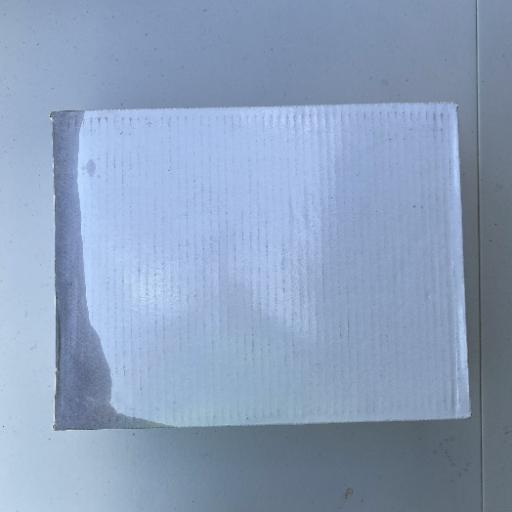Cardboard: (51, 102, 472, 428)
